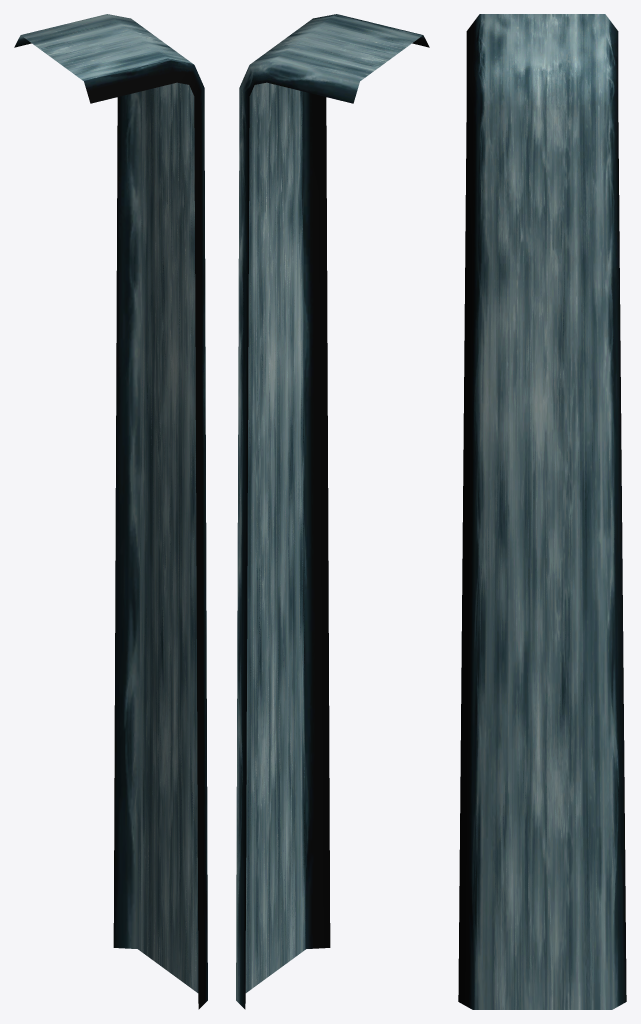
Rendered from cave_waterfall_01.fbx.
3 renders of one model, left to right at view 1: azimuth 30°, elevation 25°; view 2: azimuth 150°, elevation 25°; view 3: azimuth 270°, elevation 25°, orthographic.
Parts seen in each view (by area): view 1: waterfall_mat; view 2: waterfall_mat; view 3: waterfall_mat.
Boxes of the visible parts, bbox=[...] form: waterfall_mat: bbox=[14, 14, 207, 1009]; waterfall_mat: bbox=[236, 14, 429, 1009]; waterfall_mat: bbox=[458, 14, 626, 1009].
Size of the model in its own units: 5.92 by 44.38 by 7.21.
